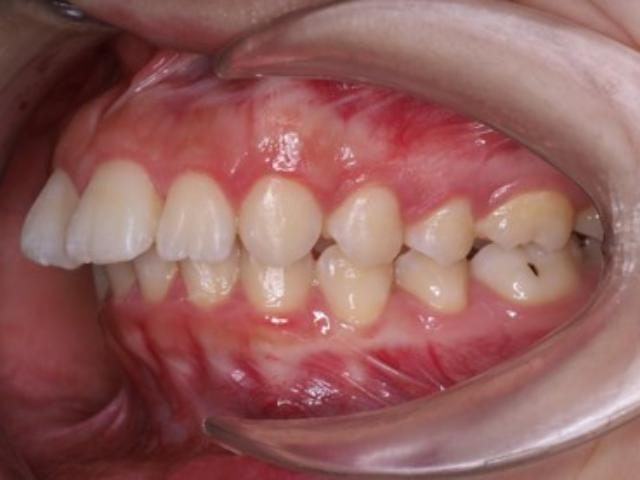canine class II 1/2: (236, 170, 394, 338)
molar class II 1/2: (472, 161, 592, 307)
